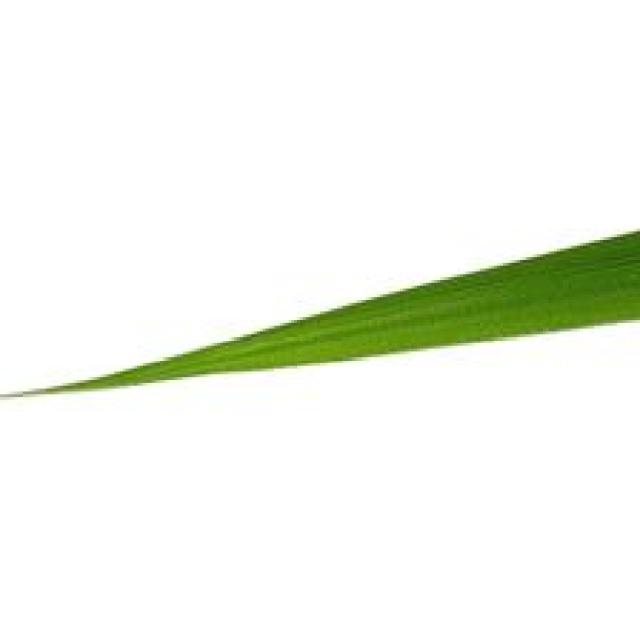Rice___Healthy_Rice_Plant: (4, 230, 637, 393)
